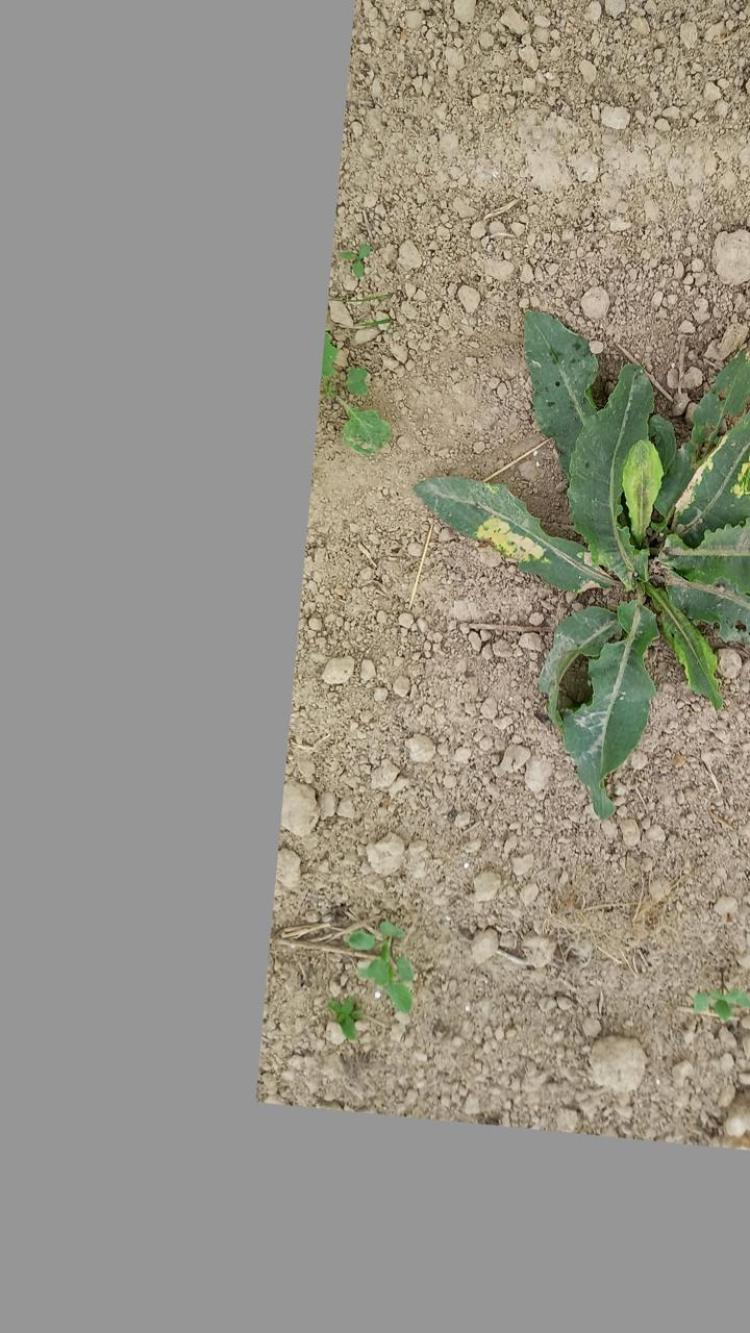zhavel: (412, 304, 750, 825)
